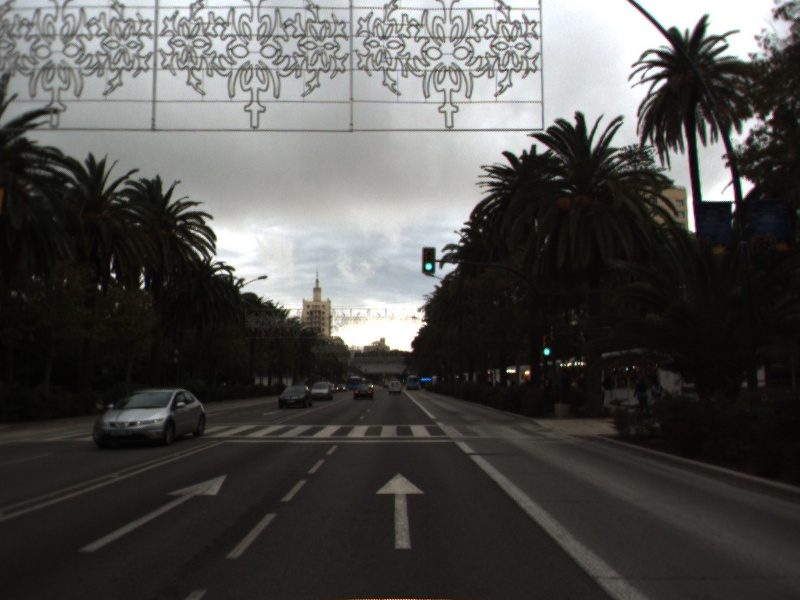STRAIGHT: (76, 472, 229, 555), (374, 471, 426, 551)
